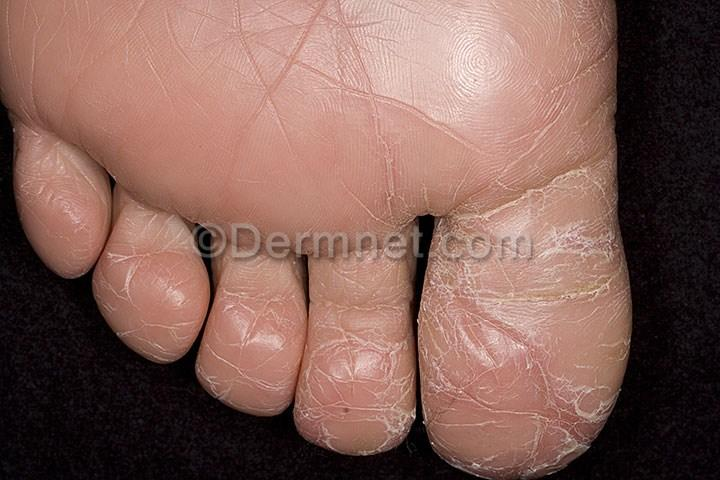xerosis 3: (11, 0, 642, 479)
